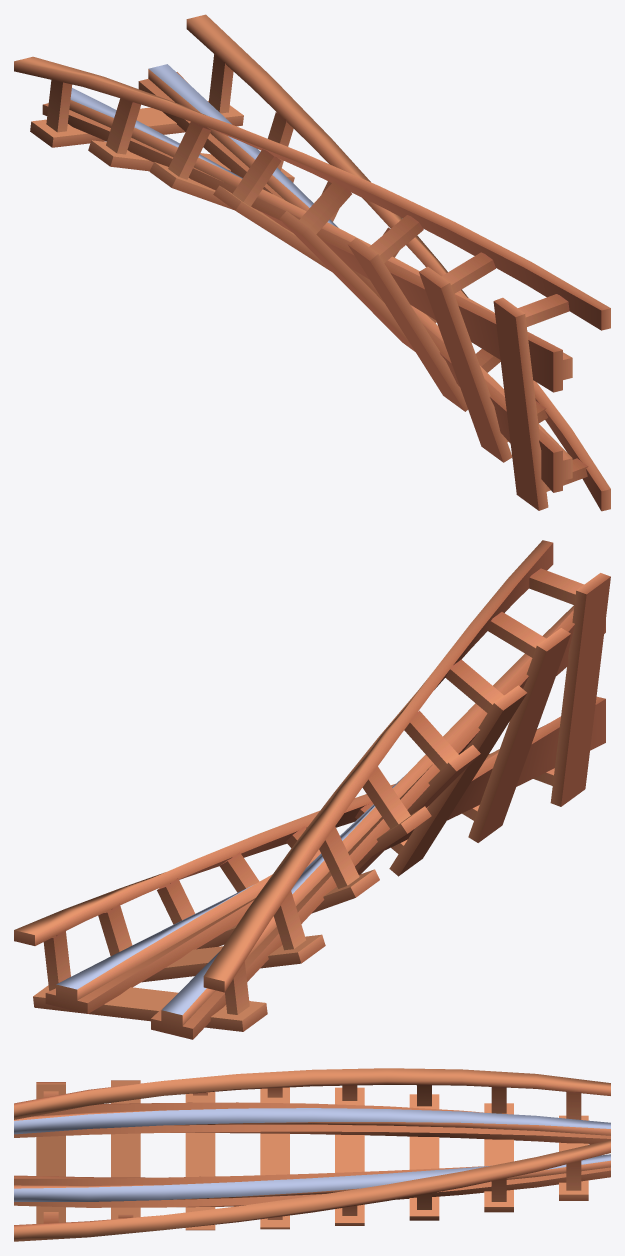
The model's file is coaster-wood-straight-skew-left-side.glb.
3 views of the same model, one above another, from view 1: azimuth 30°, elevation 25°; view 2: azimuth 150°, elevation 25°; view 3: azimuth 270°, elevation 25° (orthographic). The views are drawn at different scales.
Parts seen in each view (by area): view 1: coaster-wood-straight-skew-left-side; view 2: coaster-wood-straight-skew-left-side; view 3: coaster-wood-straight-skew-left-side.
Boxes of the visible parts, bbox=[...] form: coaster-wood-straight-skew-left-side: bbox=[14, 14, 610, 511]; coaster-wood-straight-skew-left-side: bbox=[14, 540, 610, 1039]; coaster-wood-straight-skew-left-side: bbox=[14, 1068, 610, 1241].
Bounding box in the file's own units: 1.08 × 1.08 × 4.
1 material, 1 textured.
